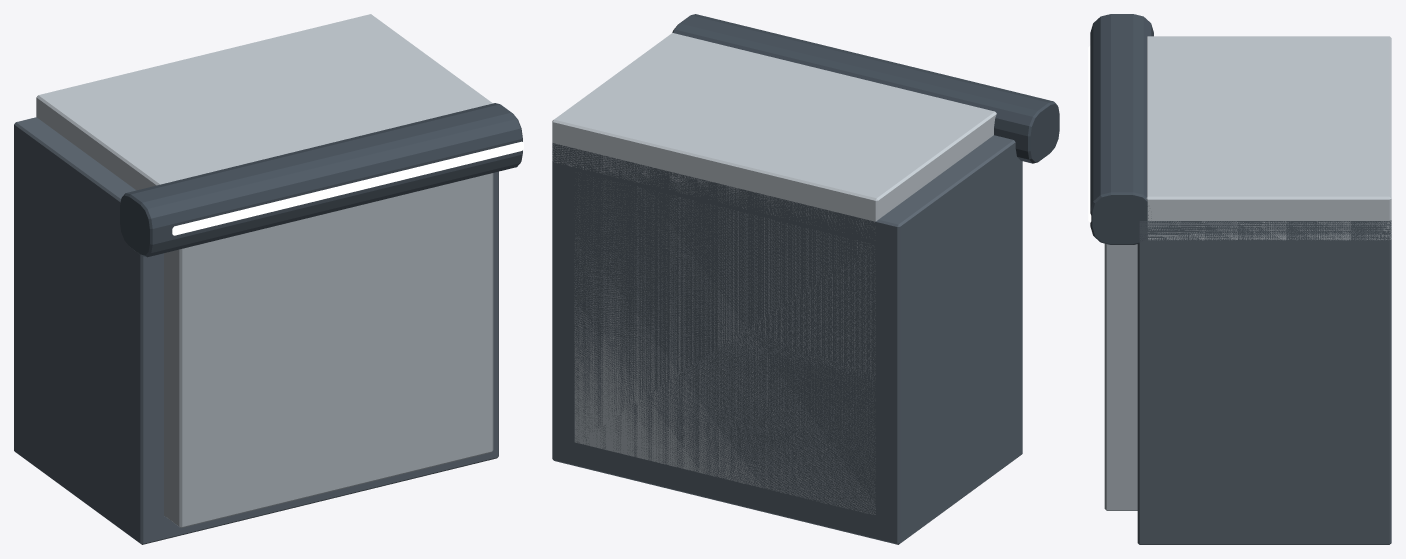
File: Terrain_TopRun1L.gltf
3 renders of one model, left to right at view 1: azimuth 30°, elevation 25°; view 2: azimuth 150°, elevation 25°; view 3: azimuth 270°, elevation 25°, orthographic. The views are drawn at different scales.
Visible parts, largest first — view 1: Terrain_TopRun1L_baked; view 2: Terrain_TopRun1L_baked; view 3: Terrain_TopRun1L_baked.
Boxes of the visible parts, x1,y1,x2,y2 form: Terrain_TopRun1L_baked: (14,14,523,544); Terrain_TopRun1L_baked: (552,14,1059,544); Terrain_TopRun1L_baked: (1088,14,1391,544).
Bounding box in the file's own units: 1.04 × 0.9495 × 0.74.
